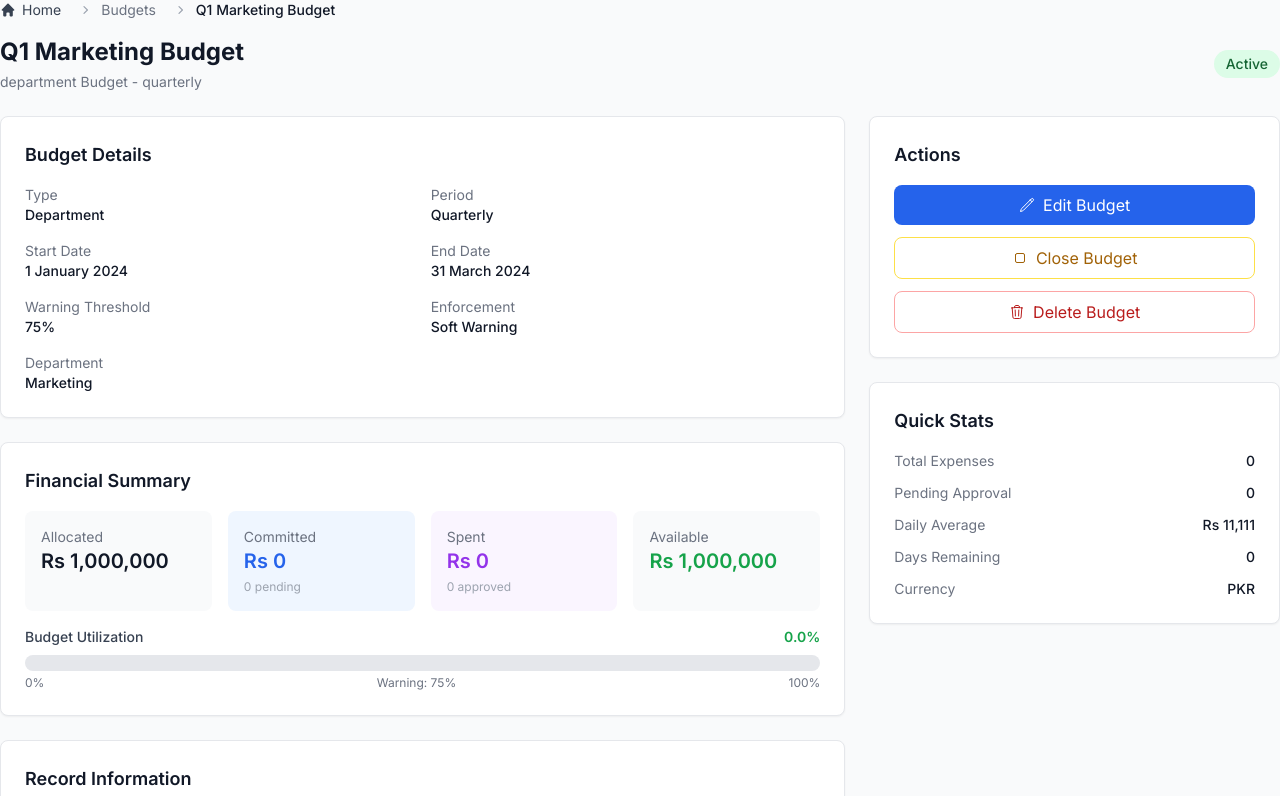
Test: BudgetDetailPage › Edit Modal › edit modal shows form with pre-filled data
Click the button "Edit Budget" at (1075, 205), box left=894, top=185, right=1255, bottom=225
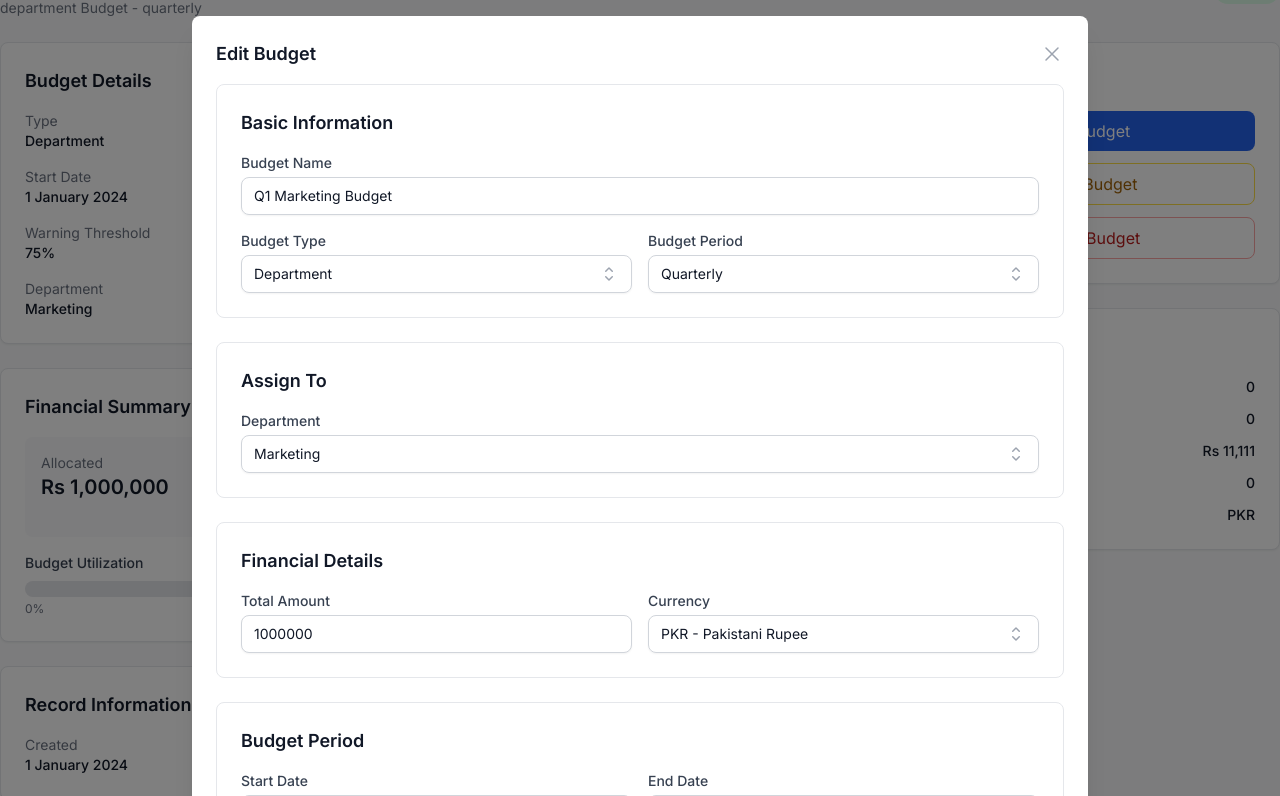
Now the field showing "Q1 Marketing Budget" is shown, box left=241, top=177, right=1039, bottom=215
